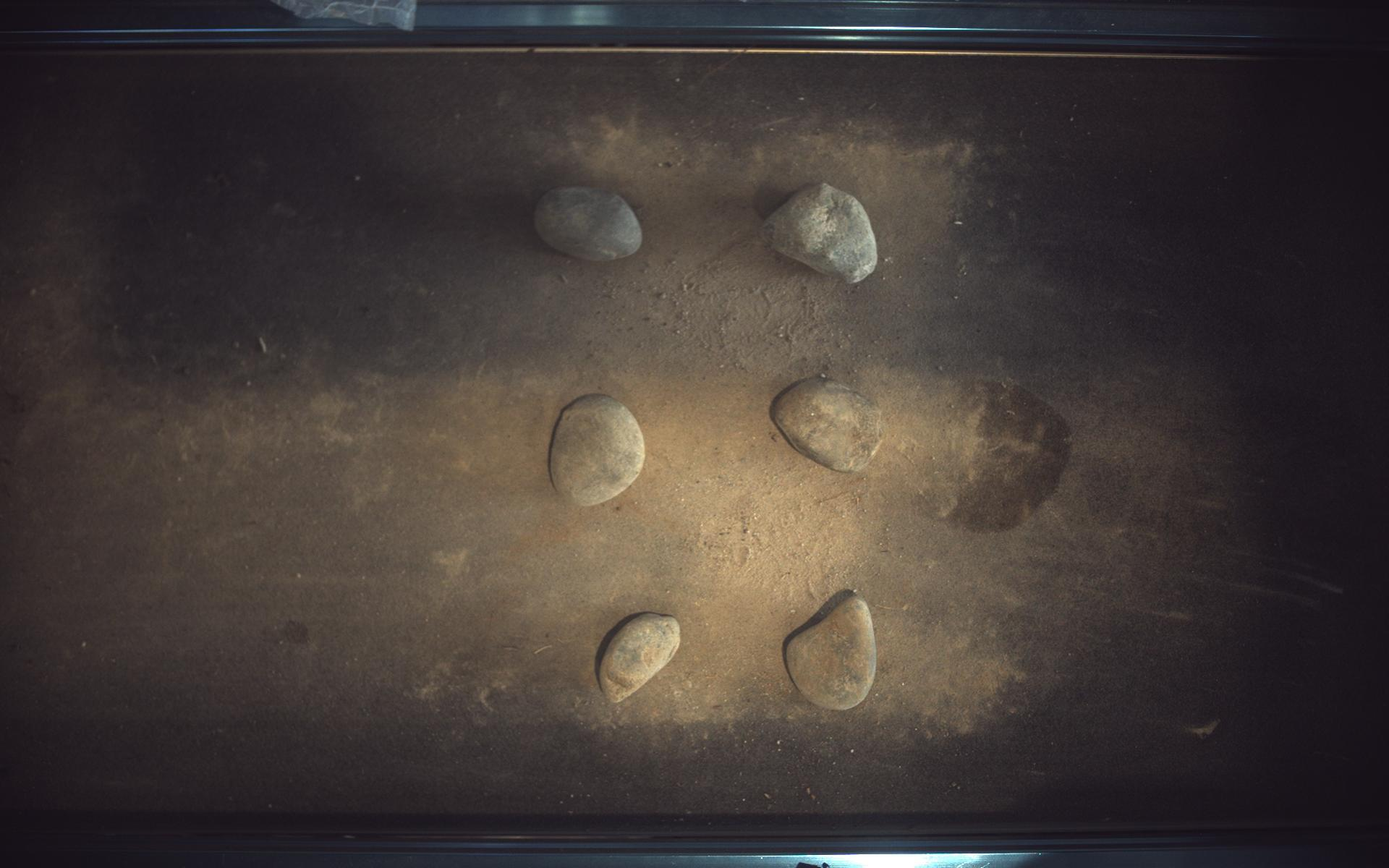stone: (765, 182, 879, 283), (772, 376, 886, 472), (550, 393, 646, 506), (787, 593, 878, 711), (535, 186, 643, 260), (599, 614, 681, 704)
